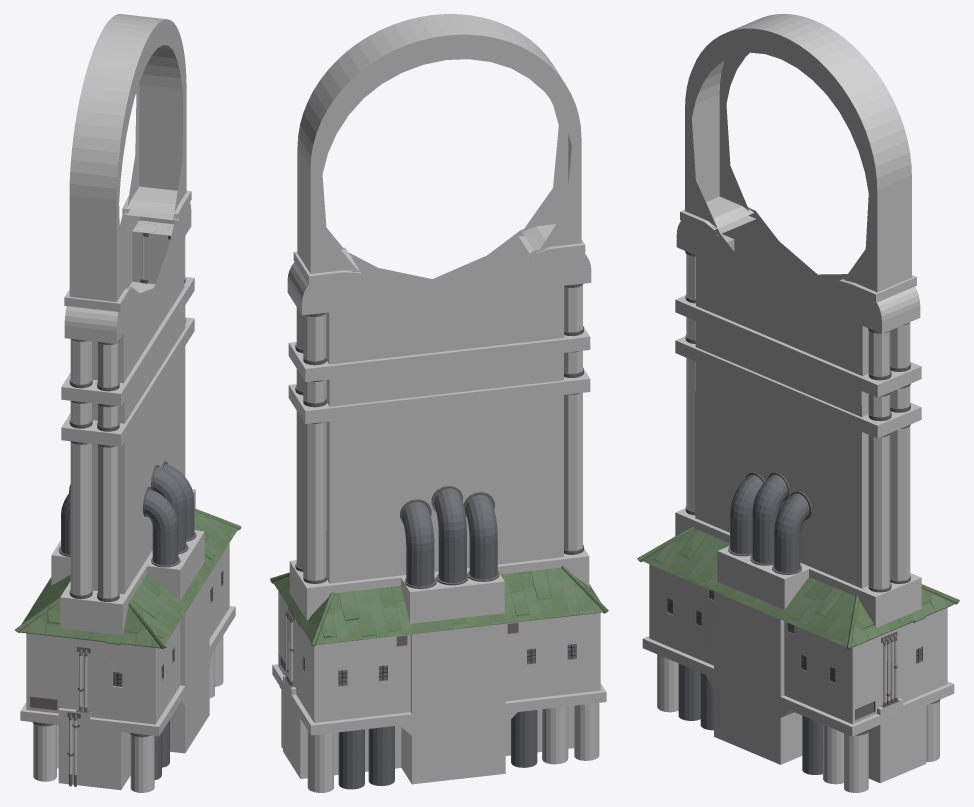
Rendered from AreaJ_PipePillar_Bb.fbx.
3 renders of one model, left to right at view 1: azimuth 30°, elevation 25°; view 2: azimuth 150°, elevation 25°; view 3: azimuth 270°, elevation 25°, orthographic. The views are drawn at different scales.
Visible parts, largest first — view 1: SM_ENV_AMVLLG02_AreaJ_PipePillar_Bb.mo; view 2: SM_ENV_AMVLLG02_AreaJ_PipePillar_Bb.mo; view 3: SM_ENV_AMVLLG02_AreaJ_PipePillar_Bb.mo.
Boxes of the visible parts, bbox=[...] form: SM_ENV_AMVLLG02_AreaJ_PipePillar_Bb.mo: bbox=[14, 14, 241, 792]; SM_ENV_AMVLLG02_AreaJ_PipePillar_Bb.mo: bbox=[270, 14, 608, 792]; SM_ENV_AMVLLG02_AreaJ_PipePillar_Bb.mo: bbox=[637, 14, 959, 792].
Bounding box in the file's own units: 2046 × 4965 × 2061.
